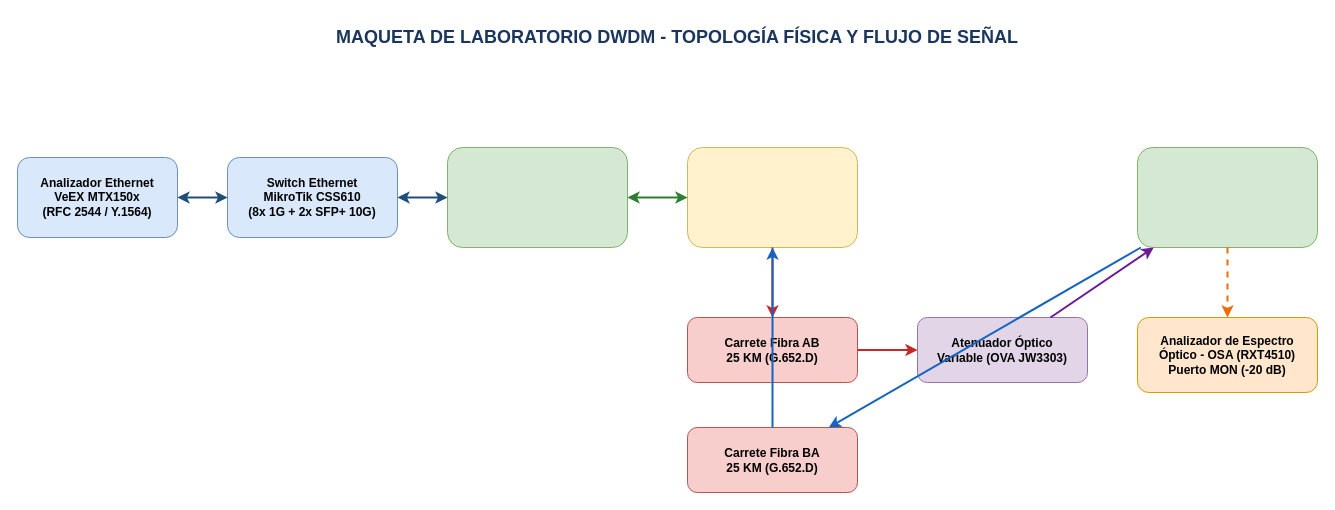
Some shapes in this 1335 by 510 pixel diagram are drawn without their labels. Each missing label, with the centre of its shape:
Chasis DWDM 1 HT6000 (Nodo A) OTU + MUX/DEMUX: point 537,197
Chasis DWDM 2 HT6000 (Nodo B) DEMUX/MUX + OTU: point 1227,197
ODF (Optical Distribution Frame) Panel de Parcheo LC: point 772,197
